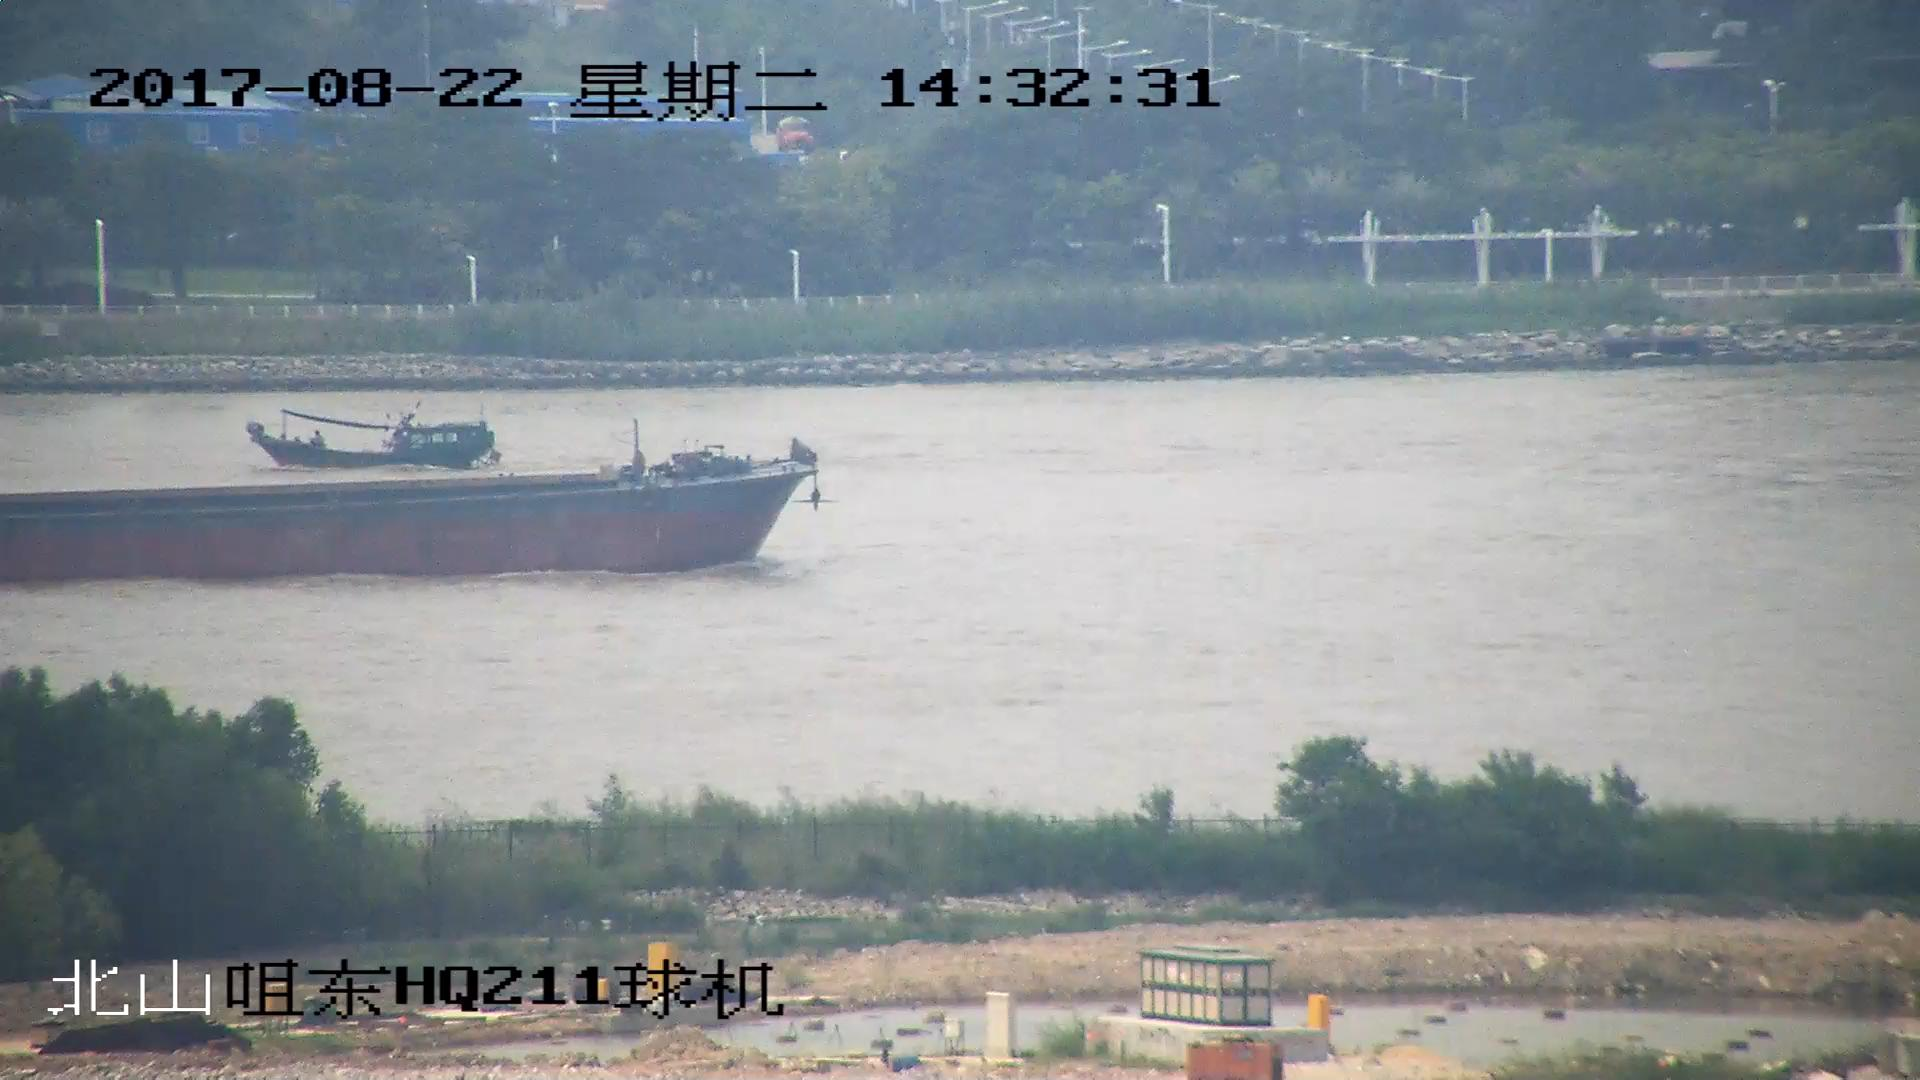bulk cargo carrier: (1, 442, 827, 583)
fishing boat: (246, 407, 502, 473)
